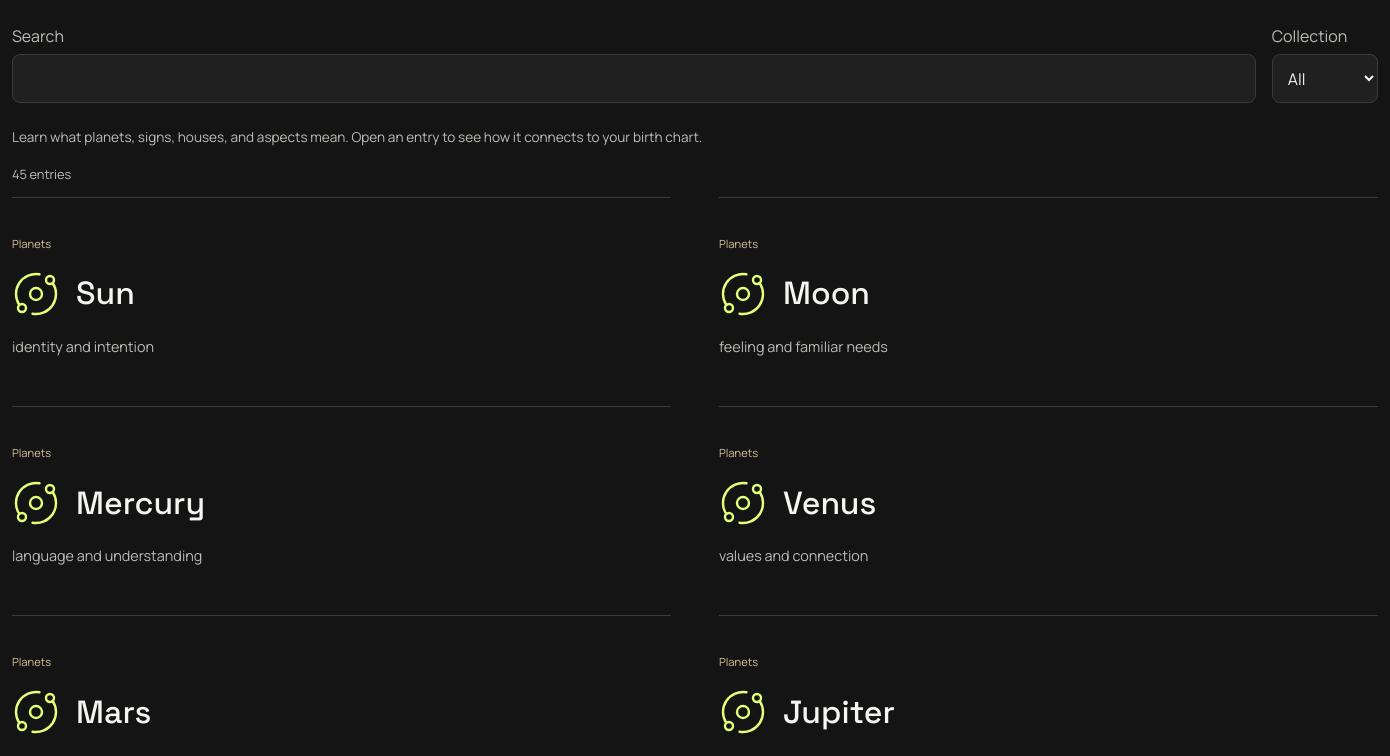
Test case: searches and filters the authored reference library
The image size is (1390, 756).
Select "Signs" in the dropdown labelled "Collection" at [1325, 79], box [1272,54,1378,103]
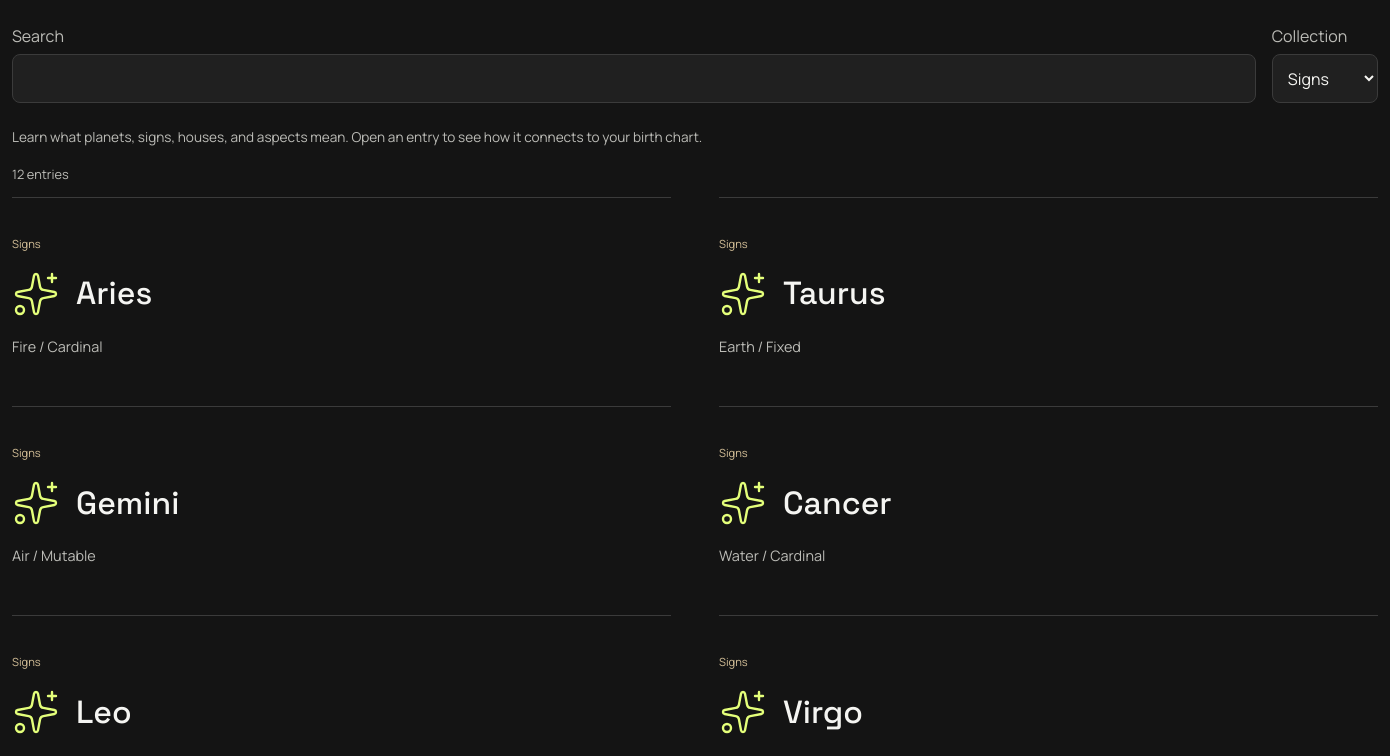
expect the link "Sun" is gone: met
Type "Cancer" into the search field labelled "Search" at [634, 79], box [12,54,1256,103]
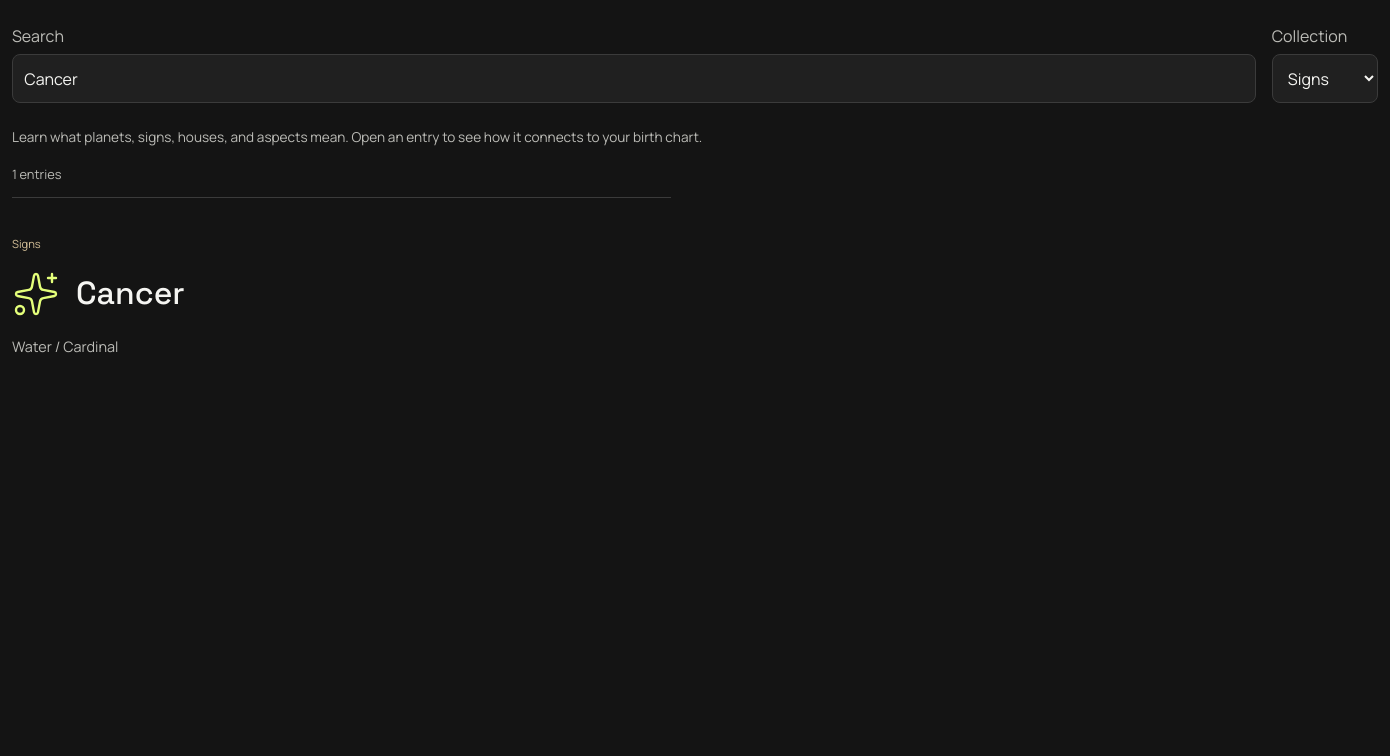
expect the link "Cancer" is shown: met, box [76,273,185,313]
expect the link "Aries" is gone: met
